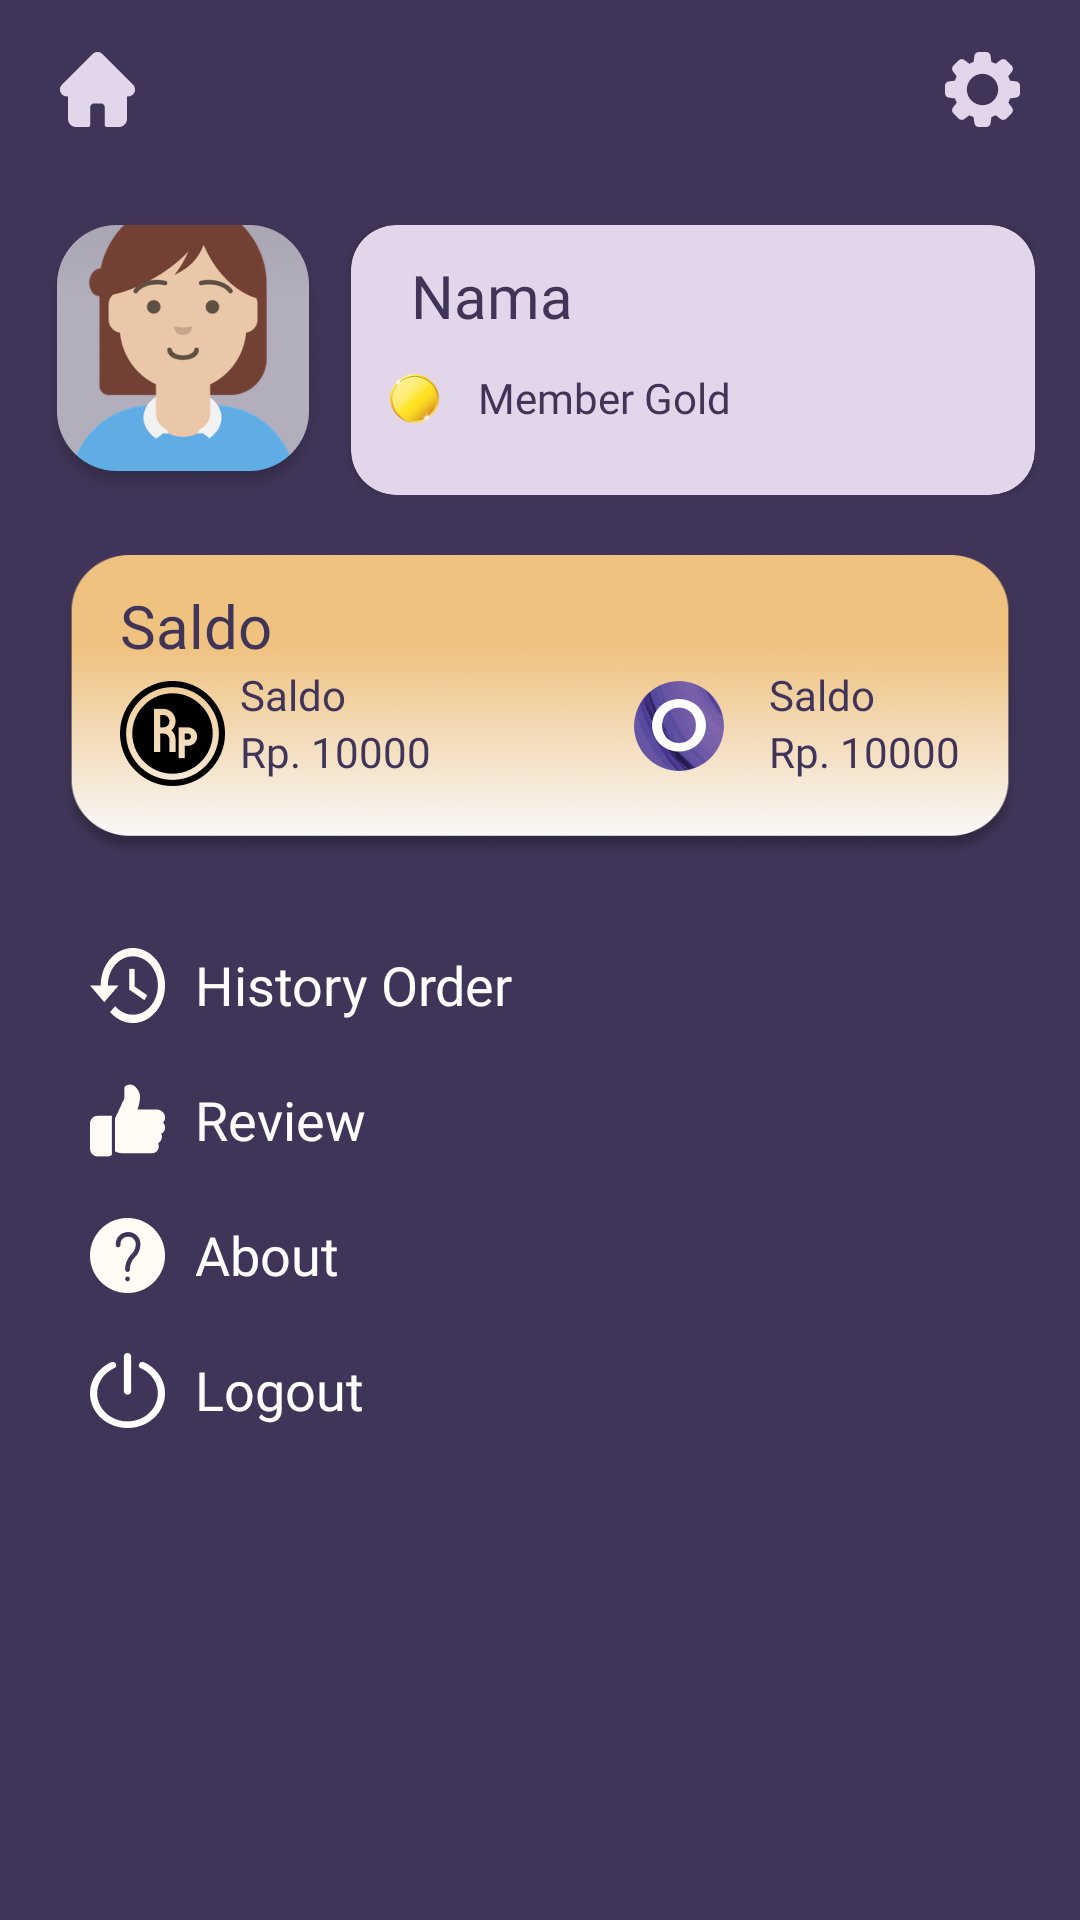

Where to tap for icons on this 1080px x 1920px app screen, as (x,y):
home: (97,89)
like profil: (127,1120)
setting: (982,89)
